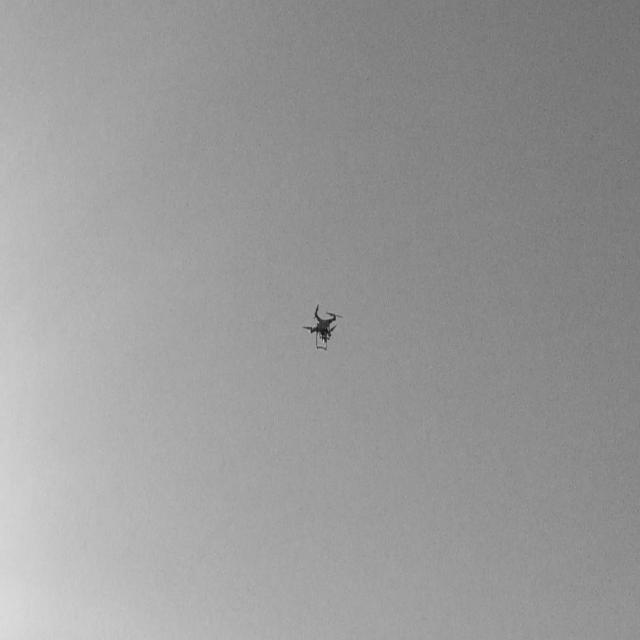drone: (301, 301, 341, 352)
